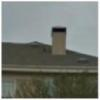chimneys: (51, 24, 67, 58)
